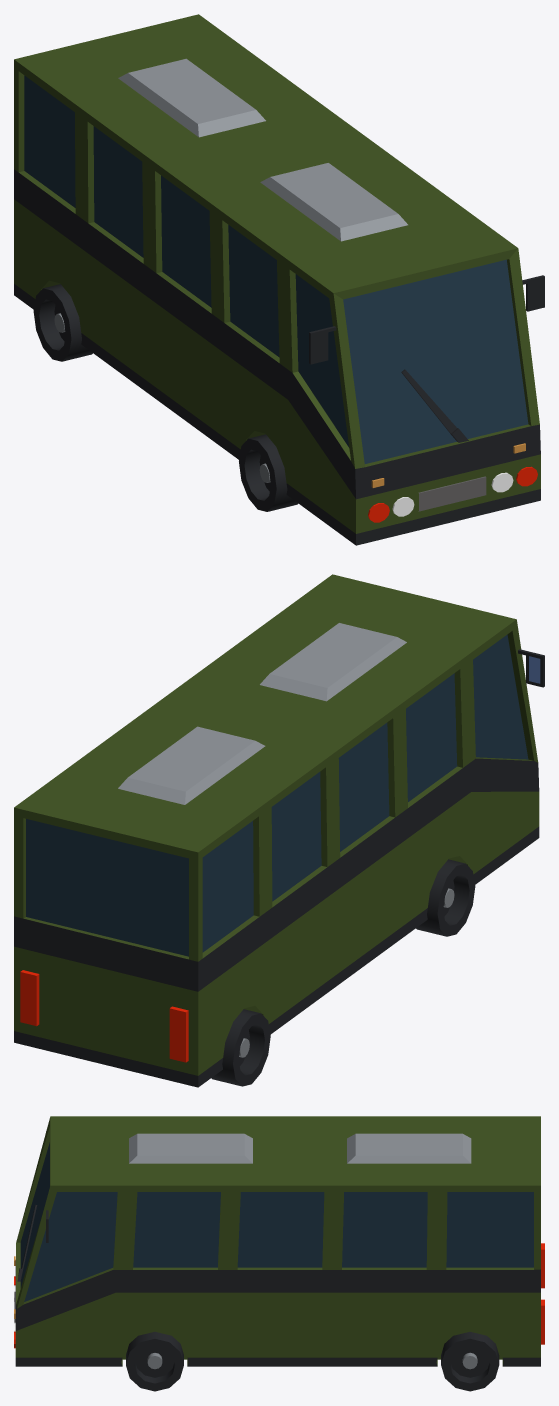
Rendered from Bus_1.fbx.
3 renders of one model, top to bottom at view 1: azimuth 30°, elevation 25°; view 2: azimuth 150°, elevation 25°; view 3: azimuth 270°, elevation 25°, orthographic. The views are drawn at different scales.
Visible parts, largest first — view 1: Bus_1; view 2: Bus_1; view 3: Bus_1.
Part boxes in pixels (box(x1,y1,x2,y2)): Bus_1: box(14, 14, 544, 545); Bus_1: box(14, 574, 544, 1087); Bus_1: box(14, 1116, 544, 1391).
Bounding box in the file's own units: 201 × 223 × 513.
